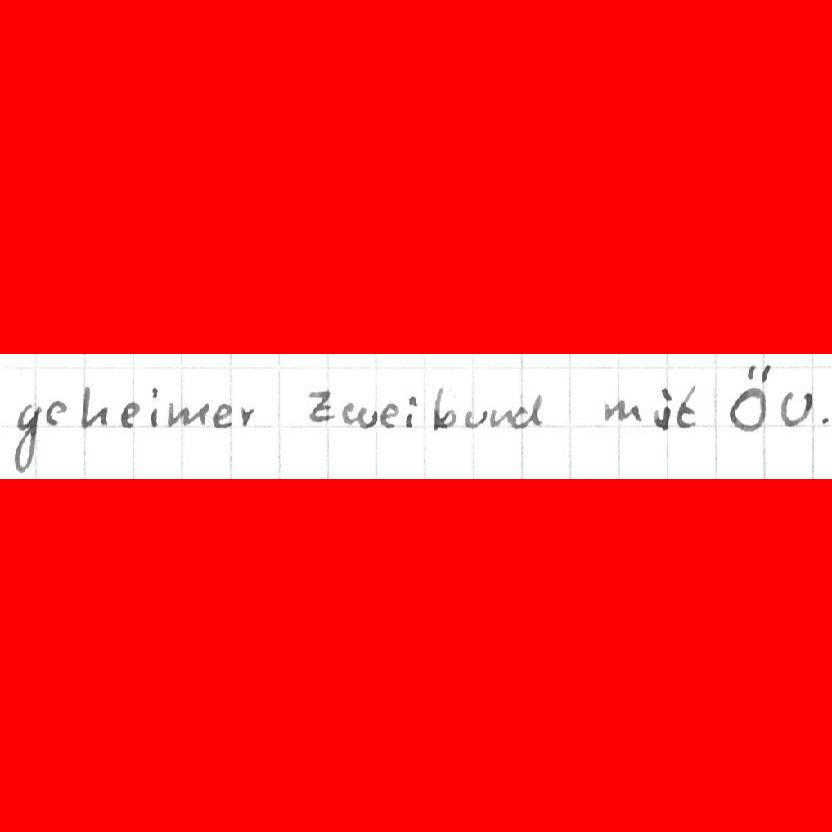Char: (729, 362, 770, 436), (7, 403, 40, 472), (505, 391, 544, 430), (165, 397, 208, 430), (80, 384, 107, 430), (779, 388, 810, 427), (430, 386, 455, 432), (602, 396, 641, 423), (341, 402, 376, 431), (306, 387, 333, 424), (653, 386, 673, 431), (676, 385, 695, 430), (44, 398, 67, 428), (119, 400, 141, 428), (380, 402, 400, 431), (212, 401, 232, 430), (148, 386, 161, 430), (236, 401, 257, 428), (404, 392, 419, 429), (489, 407, 512, 429), (465, 407, 489, 428), (820, 409, 832, 430)
